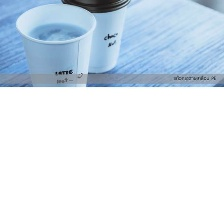paper_cup: (12, 0, 100, 86), (55, 0, 133, 77)
